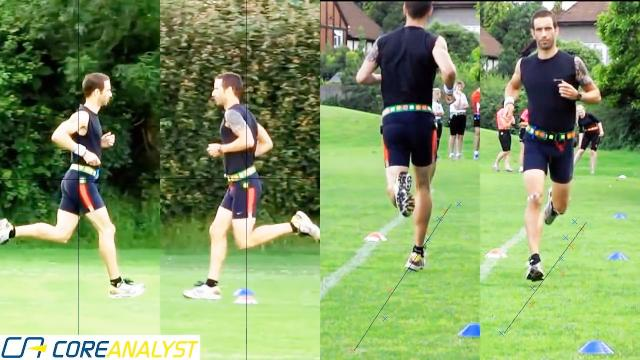berlari: (0, 66, 146, 307), (184, 68, 318, 314), (498, 6, 604, 283)
